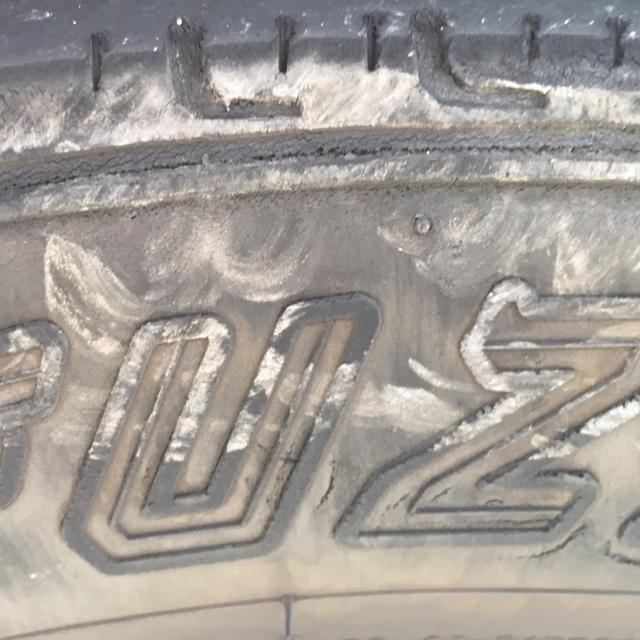Cracks: (0, 125, 640, 223)
